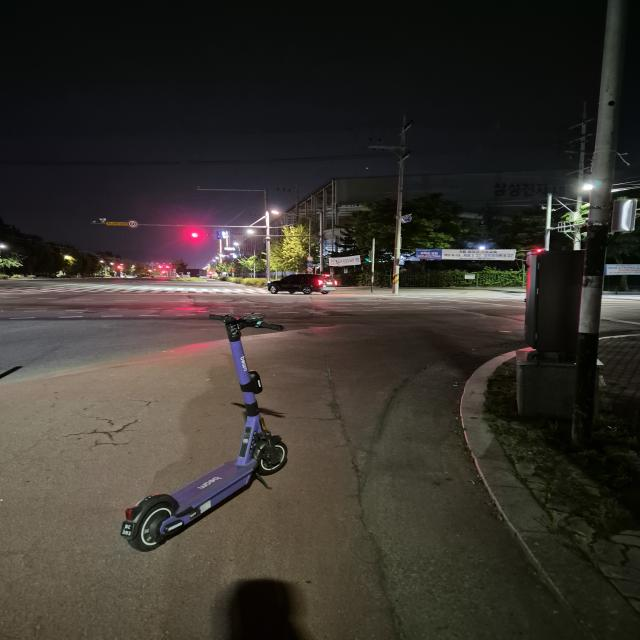curb: (460, 351, 638, 640)
kick-board: (120, 312, 287, 551), (547, 548, 550, 549)
road: (0, 280, 585, 640)
